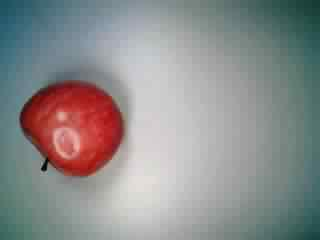apple: (19, 80, 122, 184)
